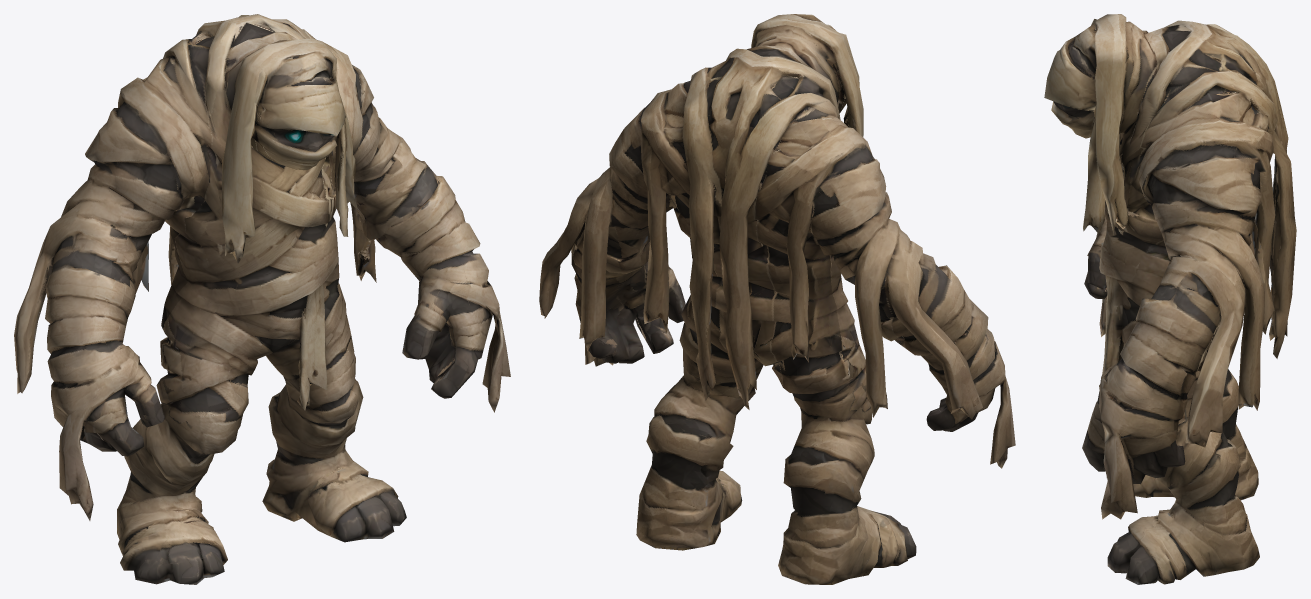
Rendered from Enemy_Mummy.fbx.
3 views of the same model, side by side, from view 1: azimuth 30°, elevation 25°; view 2: azimuth 150°, elevation 25°; view 3: azimuth 270°, elevation 25° (orthographic). The views are drawn at different scales.
Visible parts, largest first — view 1: texture_mapping; view 2: texture_mapping; view 3: texture_mapping.
Part boxes in pixels (x1,y1,x2,y2): texture_mapping: [14, 14, 510, 584]; texture_mapping: [539, 14, 1015, 584]; texture_mapping: [1044, 14, 1296, 584].
Size of the model in its own units: 0.9146 by 0.4543 by 0.997.
1 material, 1 textured.
